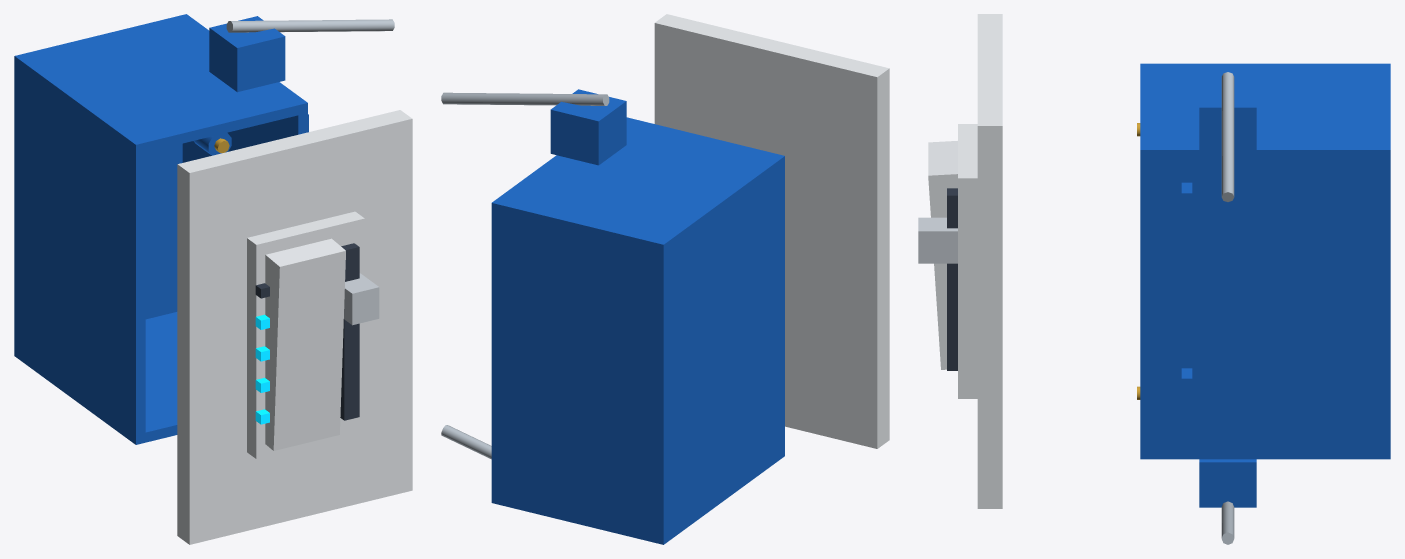
The picture shows the model from 3 angles, left to right: view 1: azimuth 30°, elevation 25°; view 2: azimuth 150°, elevation 25°; view 3: azimuth 270°, elevation 25°; orthographic projection. The views are drawn at different scales.
Visible parts, largest first — view 1: cad-device-dimmer-smart, cad-box-single-gang-standard; view 2: cad-box-single-gang-standard, cad-device-dimmer-smart; view 3: cad-box-single-gang-standard, cad-device-dimmer-smart.
Boxes of the visible parts, x1,y1,x2,y2 form: cad-device-dimmer-smart: (177,110,412,544); cad-box-single-gang-standard: (14,14,394,444); cad-box-single-gang-standard: (441,89,784,544); cad-device-dimmer-smart: (654,14,889,448); cad-box-single-gang-standard: (1137,63,1390,544); cad-device-dimmer-smart: (918,14,1002,508).
Size of the model in its own units: 0.1078 by 0.1328 by 0.1319.
